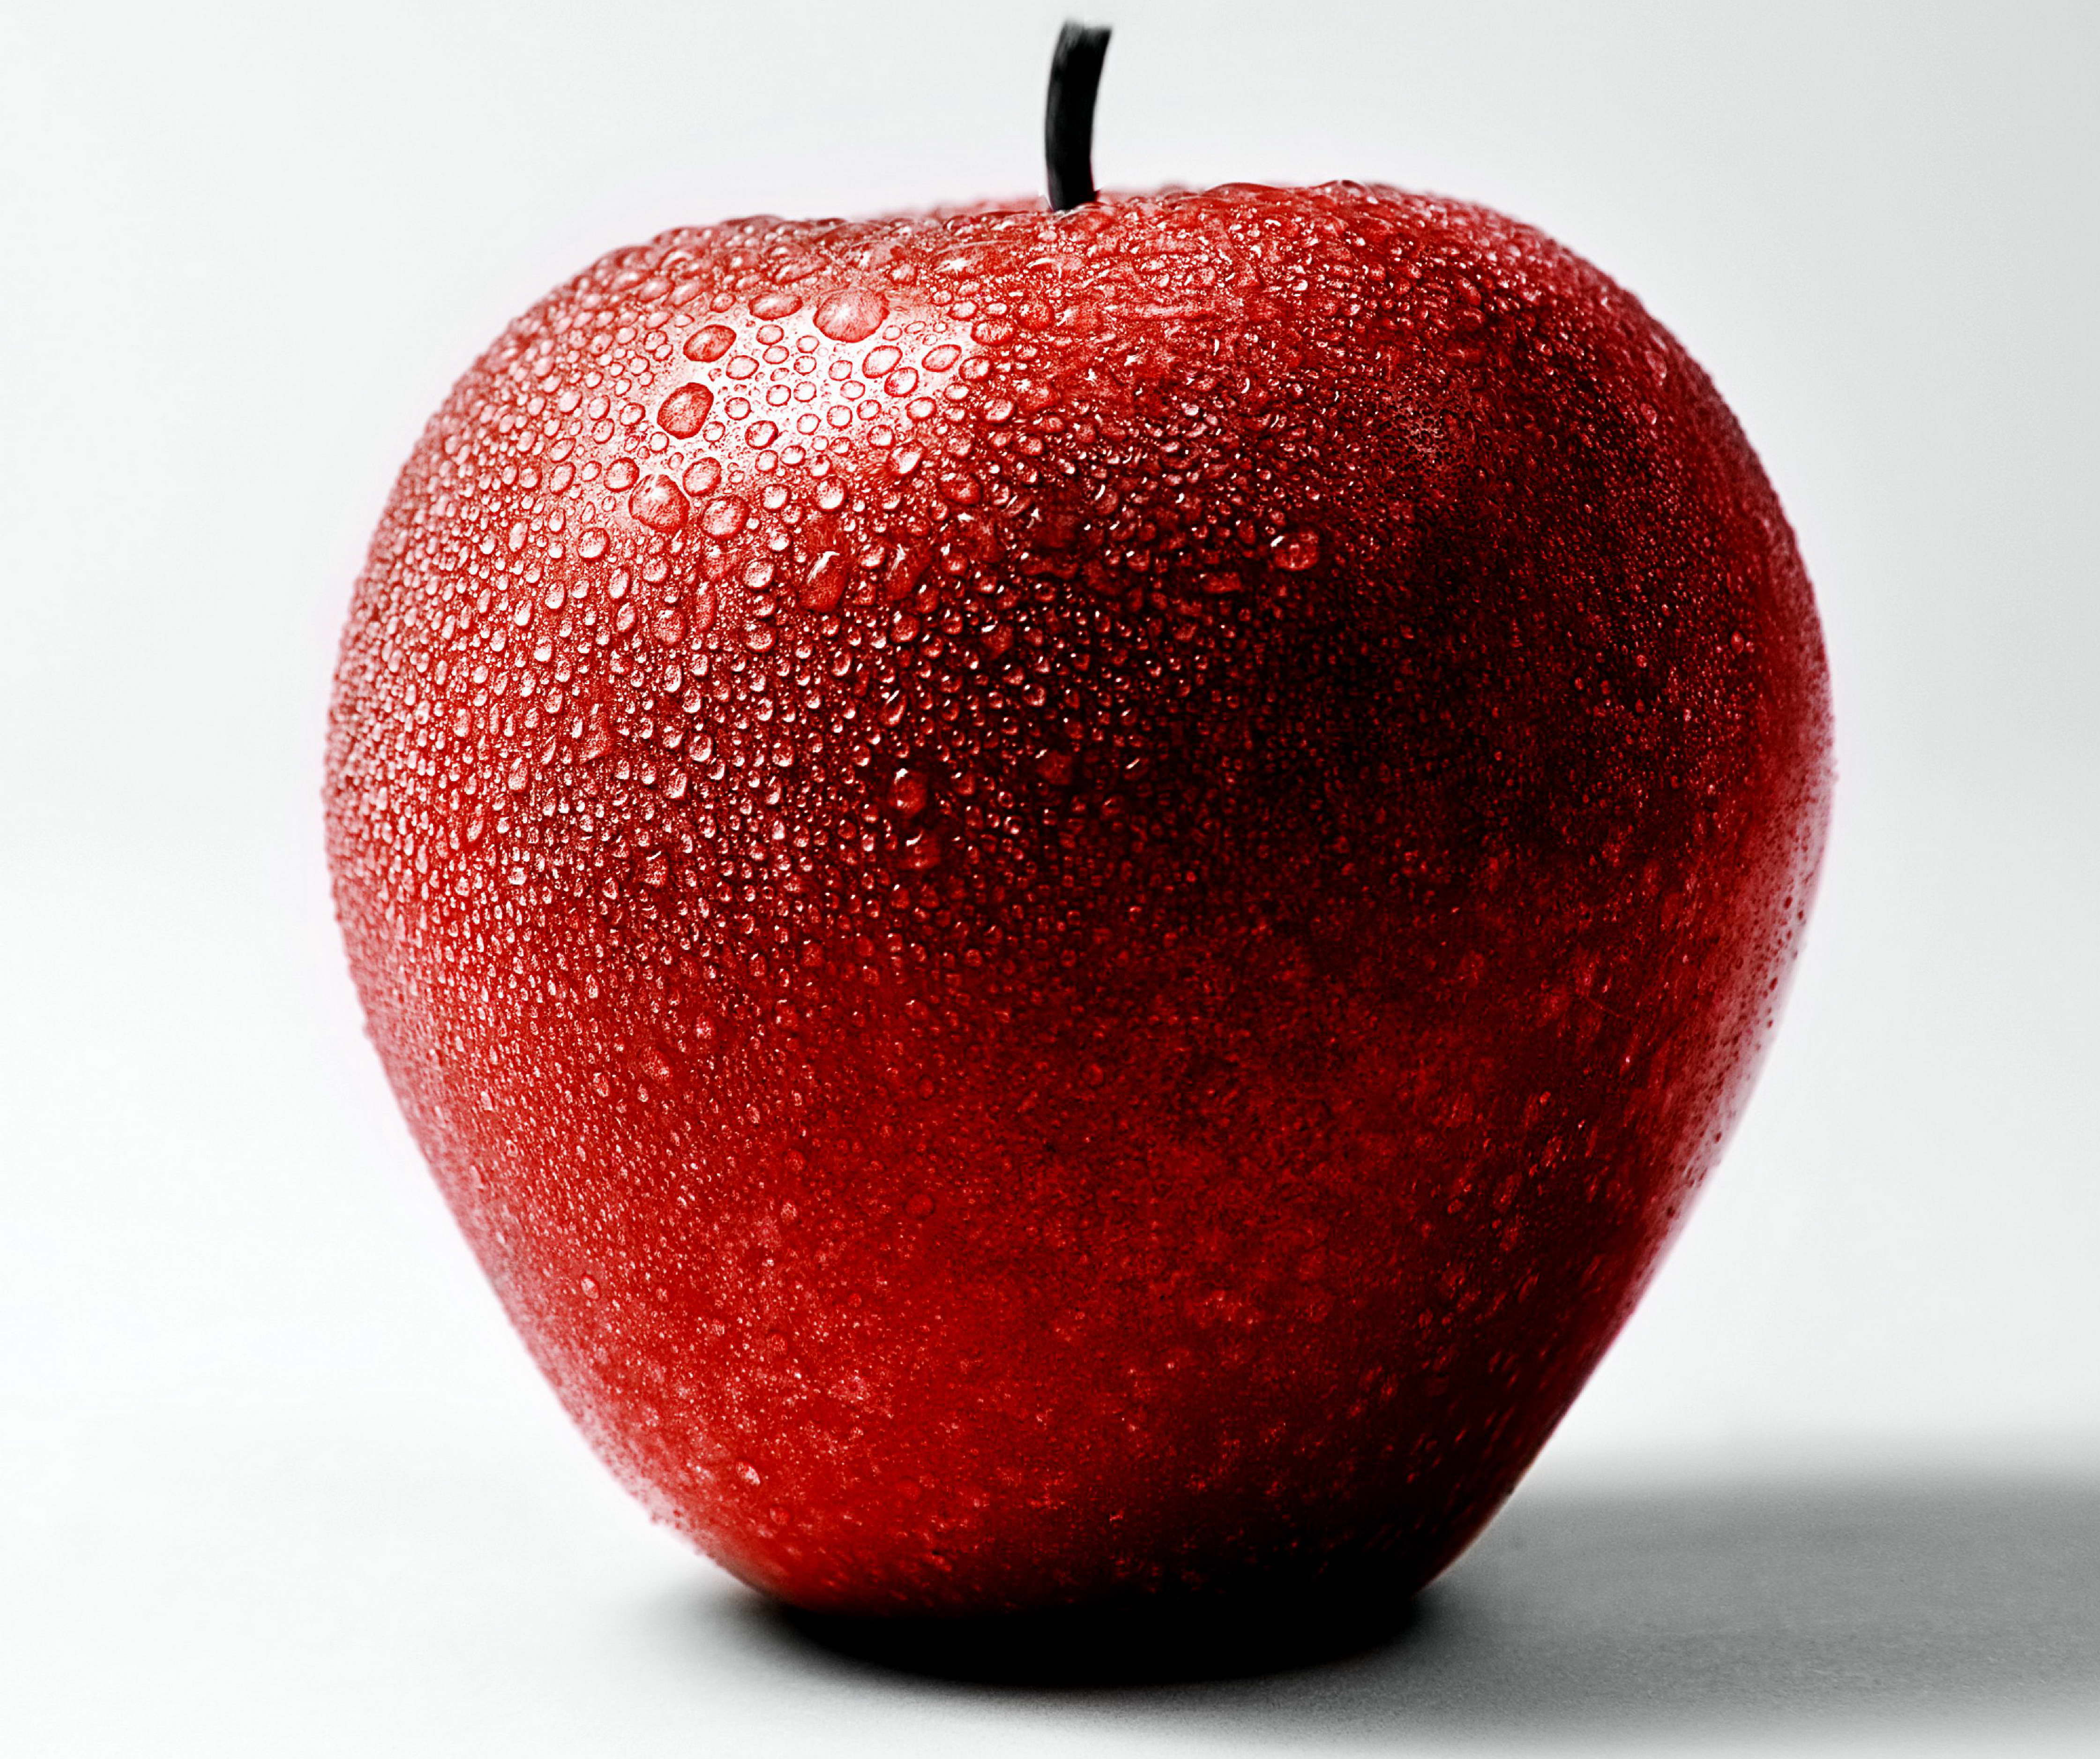apple: (319, 10, 1838, 1687)
